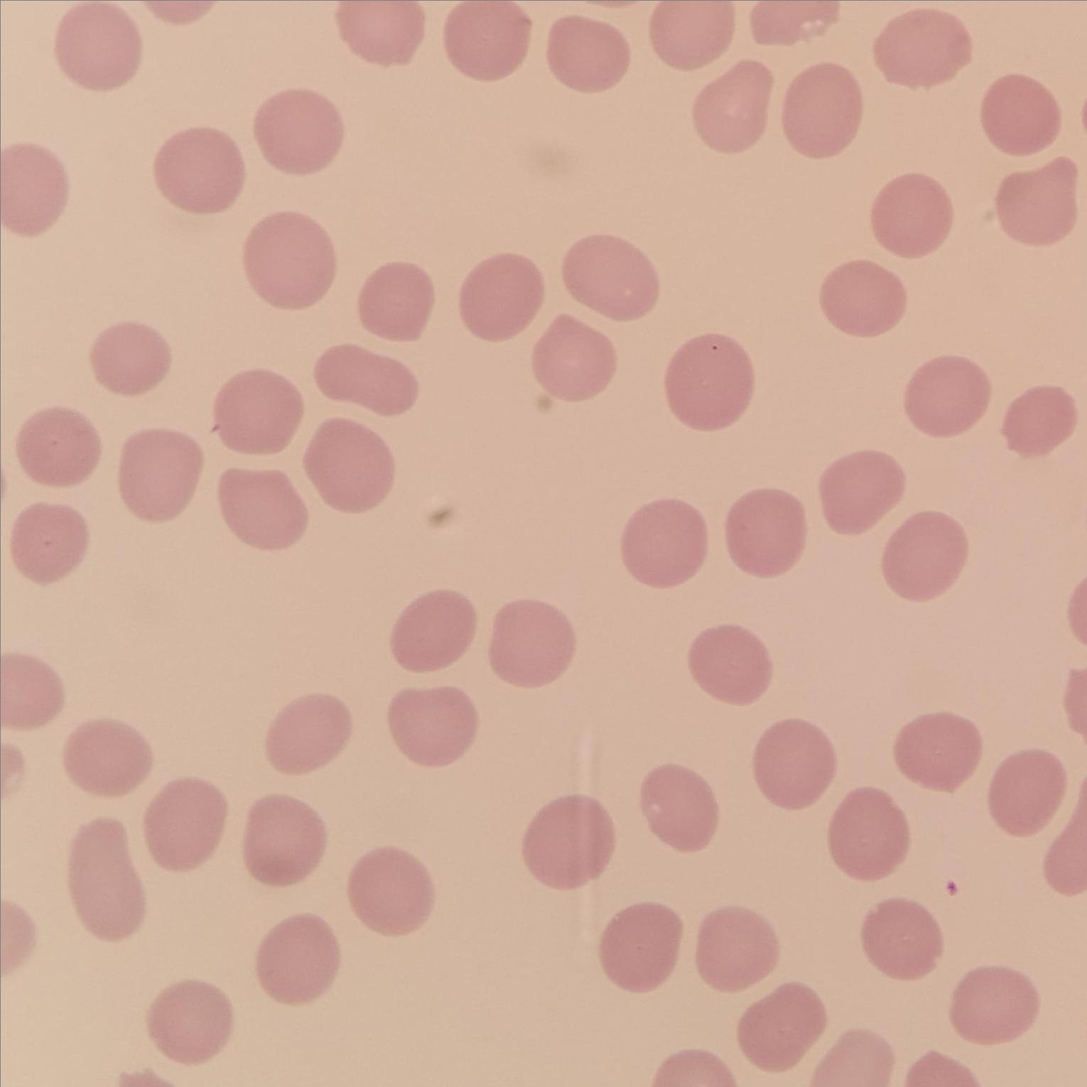Uninfected: (67, 818, 148, 939), (243, 211, 337, 308), (664, 334, 756, 430), (521, 795, 612, 889), (562, 233, 659, 321), (305, 420, 397, 512), (211, 367, 305, 455), (779, 63, 865, 159), (737, 983, 828, 1072), (117, 428, 204, 521), (142, 779, 229, 872), (347, 846, 436, 936), (880, 511, 968, 602), (253, 88, 345, 175), (826, 786, 911, 880), (153, 128, 245, 214), (242, 794, 328, 885), (597, 902, 683, 992), (751, 718, 836, 809), (995, 154, 1080, 245), (692, 60, 775, 153), (315, 339, 419, 413), (873, 9, 970, 88), (620, 499, 707, 587), (53, 4, 141, 91), (488, 598, 574, 686), (818, 449, 906, 535), (531, 313, 617, 401), (255, 915, 341, 1003), (724, 488, 808, 578), (389, 588, 477, 673), (640, 763, 723, 853), (217, 467, 308, 549), (458, 253, 544, 339), (894, 712, 983, 795), (146, 979, 232, 1064), (903, 355, 991, 438), (386, 686, 476, 767), (16, 404, 103, 487), (986, 748, 1066, 838), (695, 906, 779, 990), (63, 718, 153, 796), (688, 622, 772, 705), (264, 693, 350, 774), (870, 173, 953, 256), (949, 966, 1037, 1044), (980, 72, 1061, 154), (860, 896, 941, 978), (443, 3, 530, 79), (10, 502, 90, 583), (546, 15, 630, 92), (356, 260, 437, 339), (826, 259, 909, 336), (90, 320, 173, 394), (1000, 384, 1078, 459), (337, 2, 425, 66), (649, 3, 733, 69), (4, 651, 65, 730)
